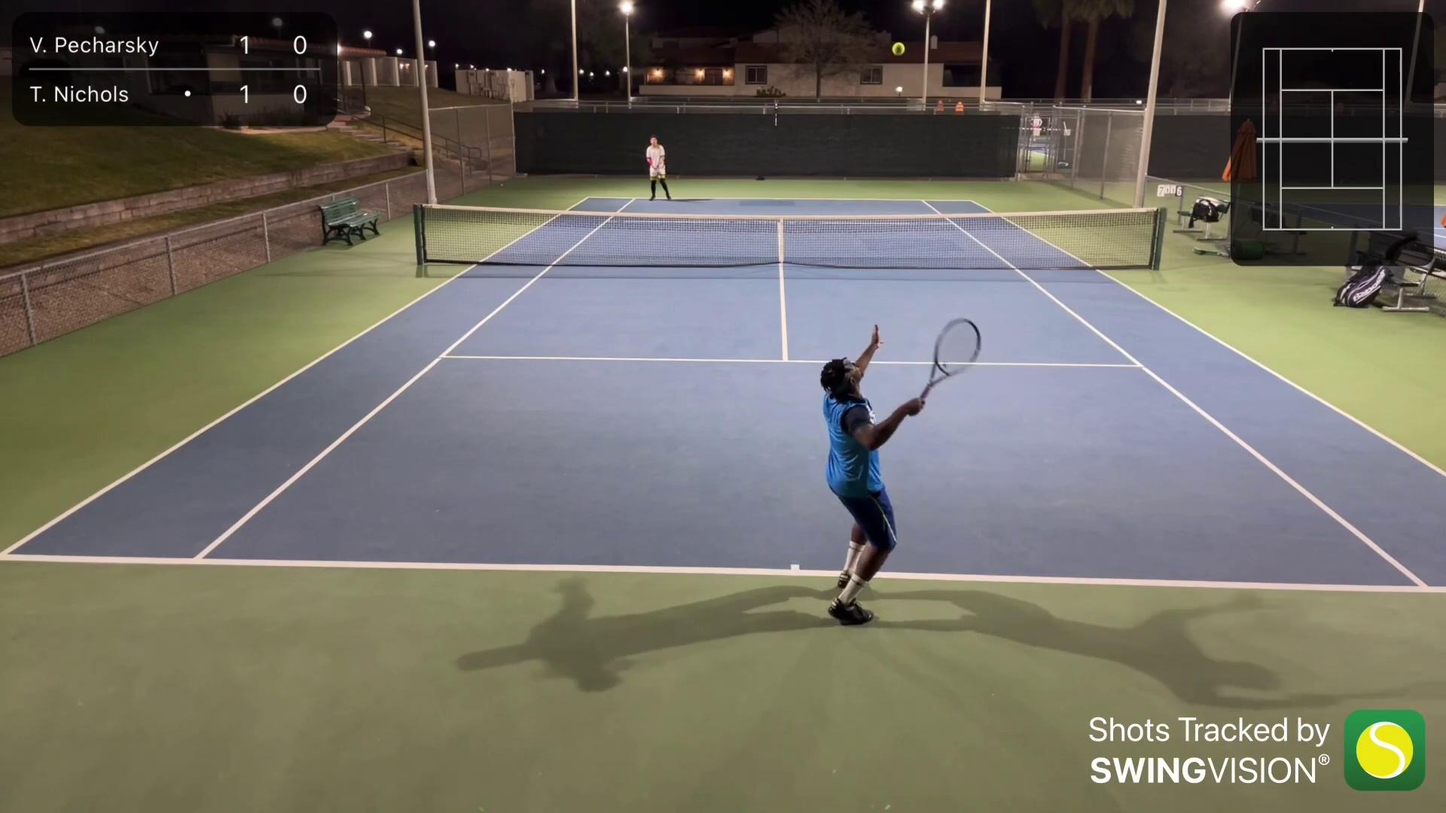ball: (891, 40, 906, 58)
